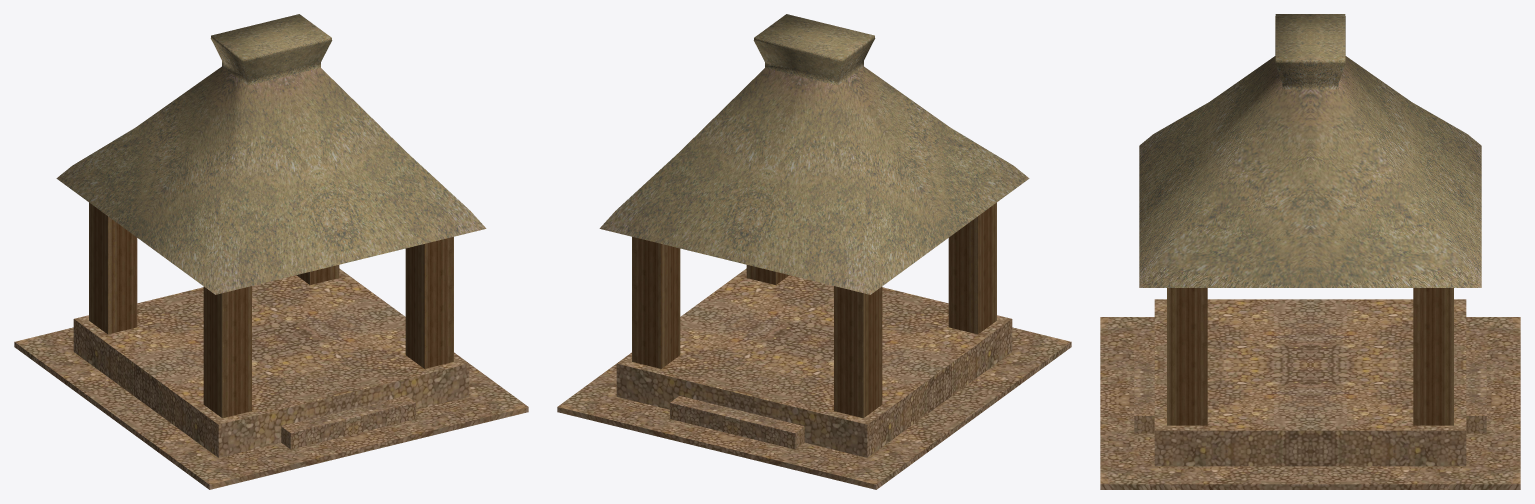
File: ranchito.gltf
3 renders of one model, left to right at view 1: azimuth 30°, elevation 25°; view 2: azimuth 150°, elevation 25°; view 3: azimuth 270°, elevation 25°, orthographic. The views are drawn at different scales.
Visible parts, largest first — view 1: Ranchito; view 2: Ranchito; view 3: Ranchito.
Boxes of the visible parts, x1,y1,x2,y2 form: Ranchito: [14, 14, 528, 489]; Ranchito: [557, 14, 1071, 489]; Ranchito: [1100, 14, 1520, 489].
Bounding box in the file's own units: 442 × 454 × 469.
Materials: 1 (1 with a texture image).
